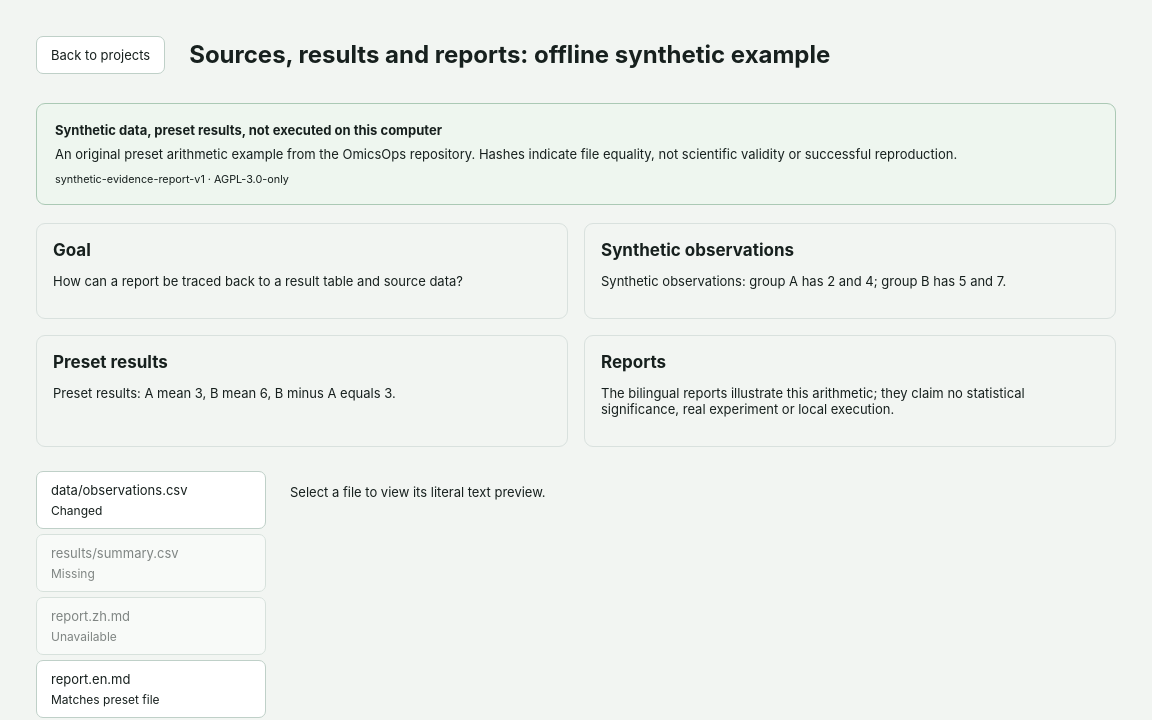
OfflineExampleWorkspace › renders changed user text literally without remote resource elements or network
The width and height of the screenshot is (1152, 720).
What coordinates should you click on to do the following:
click the button "data/observations.csv Changed"
I would click on:
 (151, 500)
Its box is 36,471 -> 266,529.
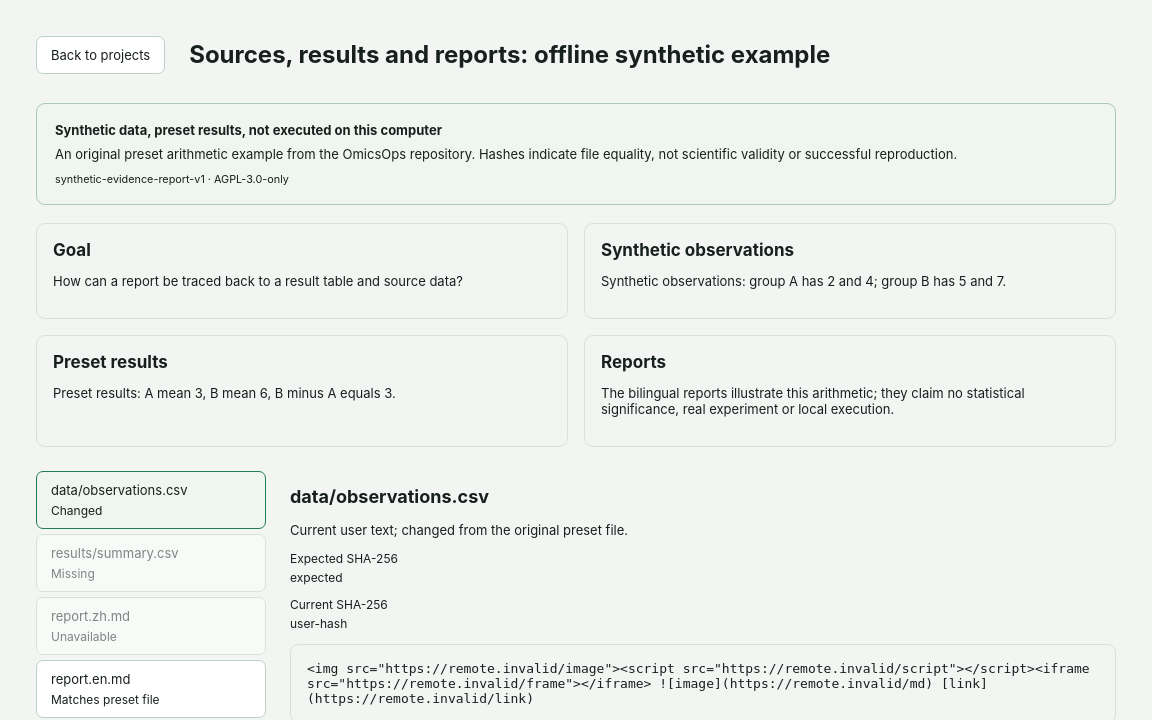
Expected: the text "Changed" is shown, 51,503 -> 102,518
Expected: the element named "Text preview" shows "<img src=\"https://remote.invalid/image\"><script src=\"https://remote.invalid/script\"></script><iframe src=\"https://remote.invalid/frame\"></iframe> ![image](https", 307,661 -> 1098,706
Expected: the text "Current user text; changed from the original preset file." is shown, 290,522 -> 628,538
